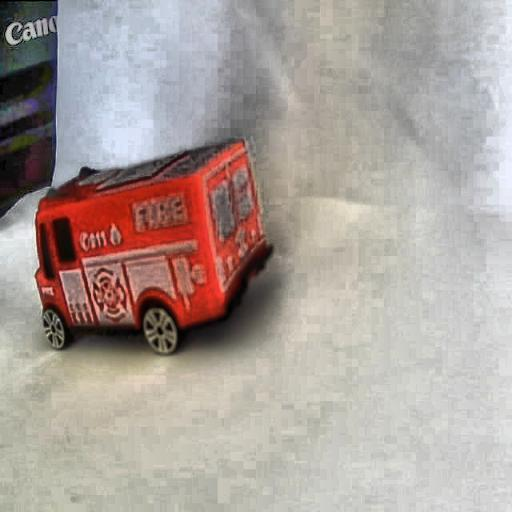fire_truck: (23, 120, 278, 362), (77, 186, 167, 248)
